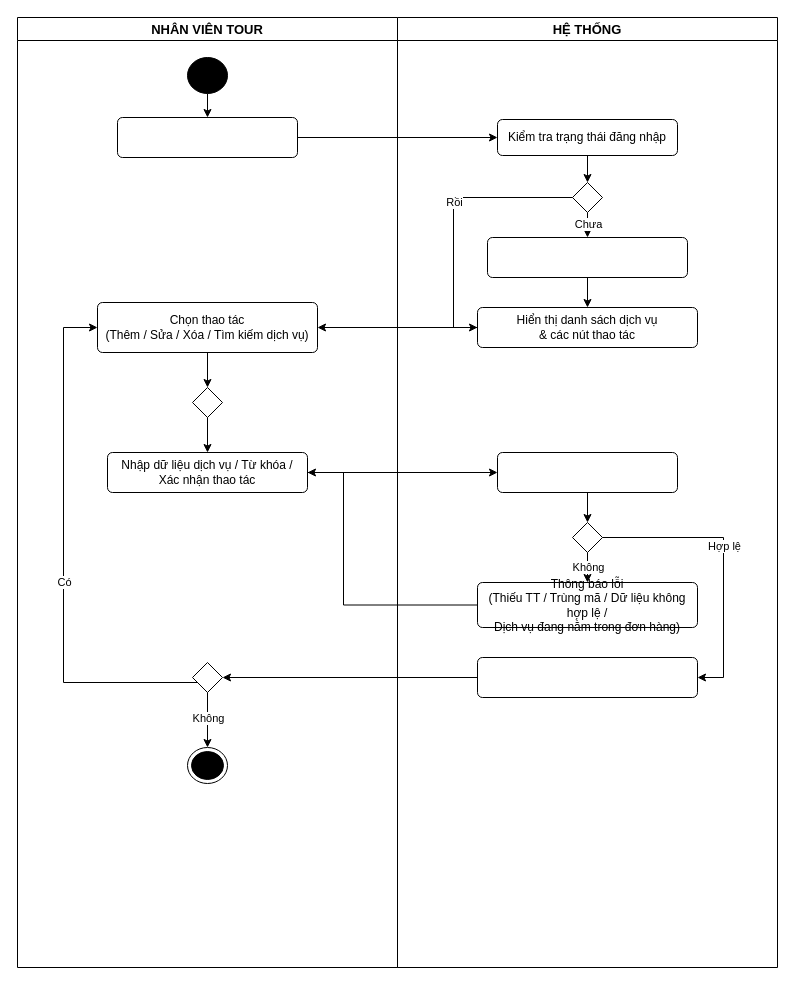
The diagram is 795 pixels wide and 985 high, and some of its shapes have lost their labels. Here are the shapes that lost their labels. From the top down, the box of each, then its label:
(116, 116, 298, 158): Chọn chức năng Quản lý dịch vụ
(486, 236, 688, 278): Chuyển sang Giao diện Đăng nhập & Thực hiện UC Đăng nhập
(496, 452, 678, 492): Kiểm tra điều kiện & Thực hiện cập nhật CSDL
(476, 656, 698, 698): Thông báo thao tác thành công & Cập nhật danh sách dịch vụ
